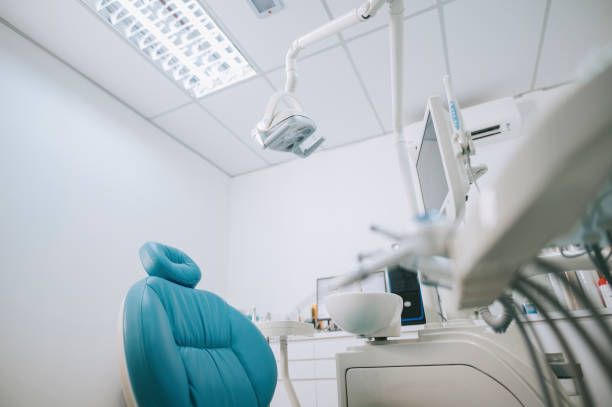bedside_monitor: (412, 96, 464, 221)
counter: (253, 306, 612, 407)
exam_table: (122, 243, 278, 407)
sink: (323, 292, 403, 341)
surgical_light: (248, 111, 325, 160)
